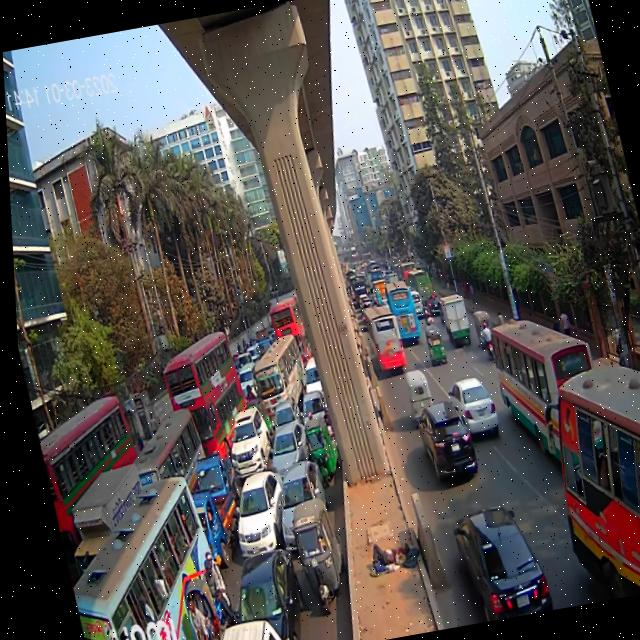cng: (293, 399, 341, 492), (415, 312, 447, 373)
rikshaw: (164, 568, 221, 640)
